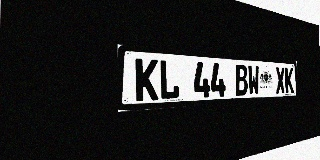4: (193, 62, 210, 98), (210, 63, 226, 97)
B: (235, 64, 248, 96)
K: (135, 58, 158, 101), (285, 67, 294, 93)
L: (159, 60, 179, 100)
W: (248, 65, 260, 95)
X: (275, 67, 285, 94)
